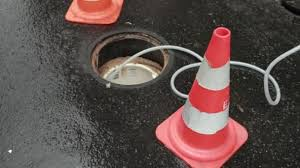cones: (156, 27, 252, 168)
